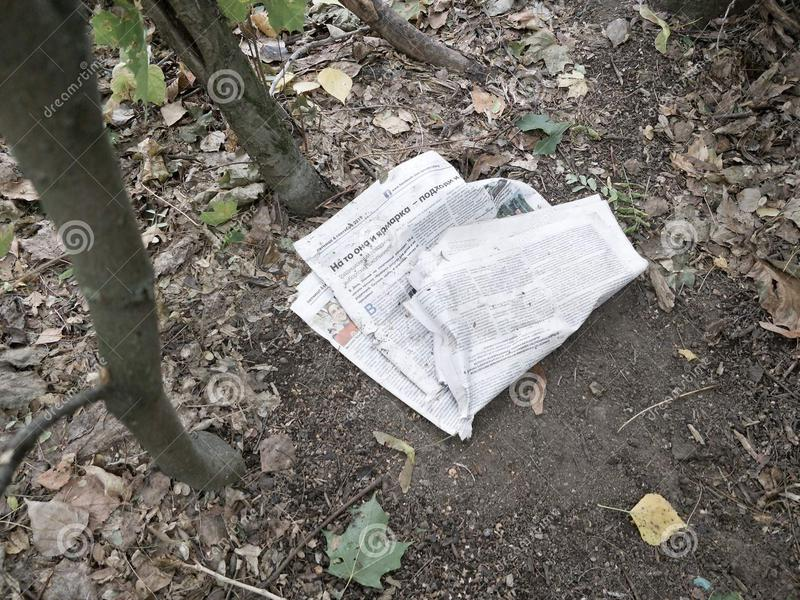leaf: (317, 491, 417, 594), (589, 483, 695, 550), (19, 484, 97, 562), (517, 26, 577, 76), (515, 107, 572, 156), (260, 1, 318, 38), (195, 188, 246, 230), (311, 63, 357, 106)
paper: (287, 147, 653, 449)
